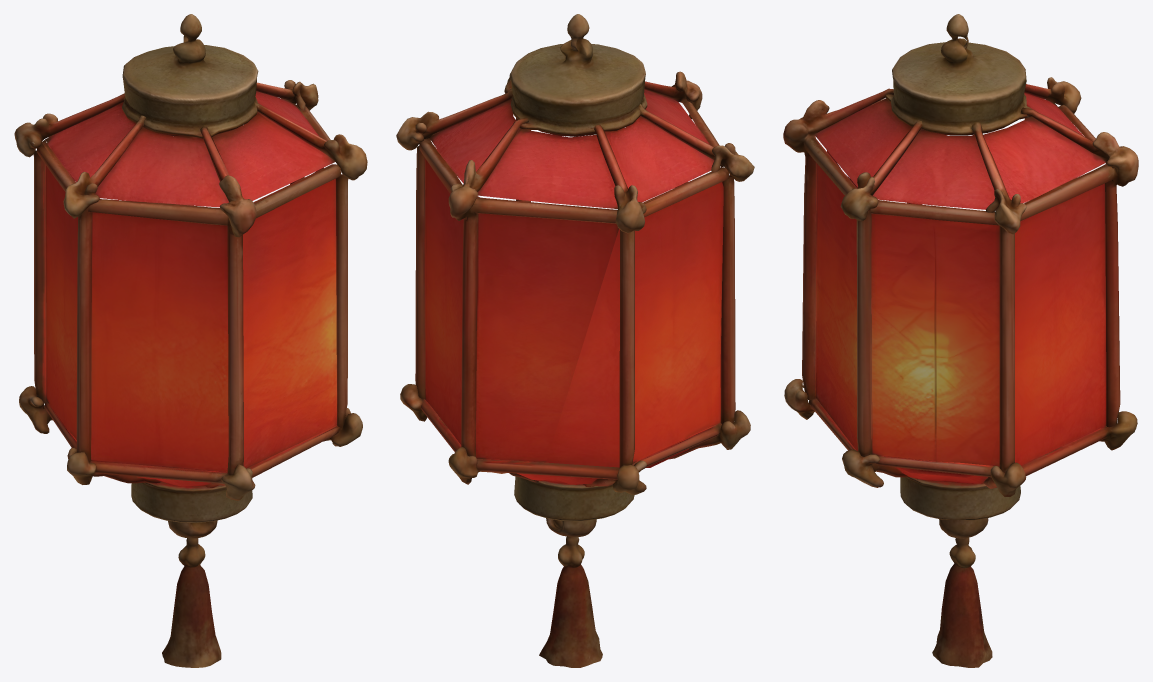
The model's file is 红色灯笼3d模型.glb.
3 renders of one model, left to right at view 1: azimuth 30°, elevation 25°; view 2: azimuth 150°, elevation 25°; view 3: azimuth 270°, elevation 25°, orthographic.
Visible parts, largest first — view 1: a7c4deb5_2080_4e0f_94e7_7bc5ed4353ae; view 2: a7c4deb5_2080_4e0f_94e7_7bc5ed4353ae; view 3: a7c4deb5_2080_4e0f_94e7_7bc5ed4353ae.
Part boxes in pixels (x1,y1,x2,y2): a7c4deb5_2080_4e0f_94e7_7bc5ed4353ae: [14, 14, 367, 667]; a7c4deb5_2080_4e0f_94e7_7bc5ed4353ae: [396, 14, 754, 667]; a7c4deb5_2080_4e0f_94e7_7bc5ed4353ae: [783, 14, 1138, 667].
Size of the model in its own units: 0.4946 by 0.9995 by 0.5034.
1 material, 1 textured.
